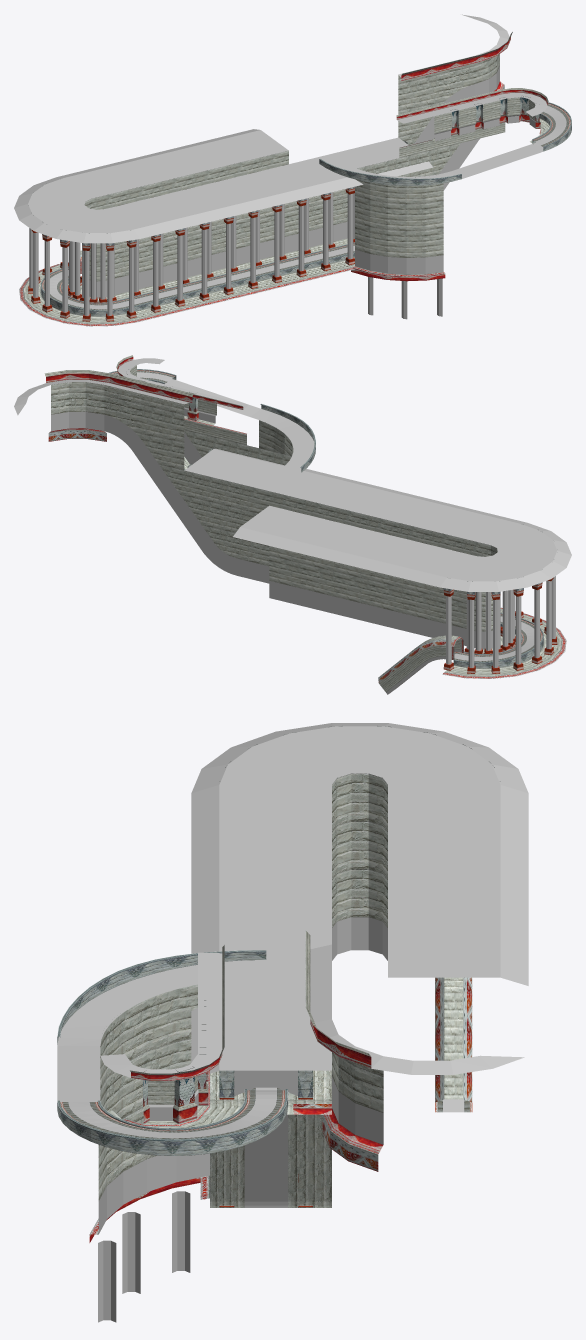
File: Seaside_course4.obj
The picture shows the model from 3 angles, top to bottom: view 1: azimuth 30°, elevation 25°; view 2: azimuth 150°, elevation 25°; view 3: azimuth 270°, elevation 25°; orthographic projection. The views are drawn at different scales.
Visible parts, largest first — view 1: Object_2, obj1; view 2: Object_2, obj1; view 3: Object_2, obj1.
Part boxes in pixels (x1=…): Object_2: x1=14, y1=14, x2=571, y2=326; obj1: x1=42, y1=103, x2=570, y2=310; Object_2: x1=14, y1=355, x2=571, y2=694; obj1: x1=111, y1=370, x2=542, y2=692; Object_2: x1=57, y1=723, x2=528, y2=1322; obj1: x1=60, y1=1087, x2=472, y2=1139.
Size of the model in its own units: 6081 by 2379 by 2515.
